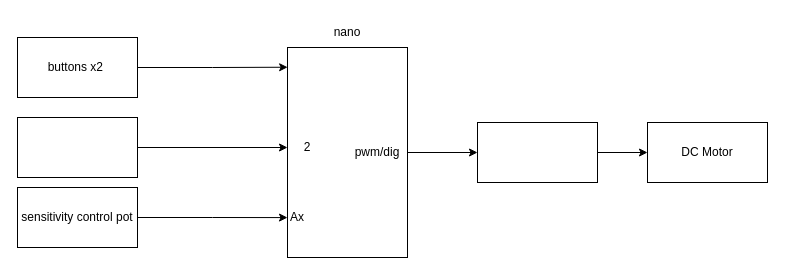
Image size: 785x275. Some labels were removed from this diagram. The shapes that lost their labels are listed below. From the top down, each one's centre as x and y in pixels, then its label:
the point at 77,147: proximity pulse
the point at 537,152: h-bridge
